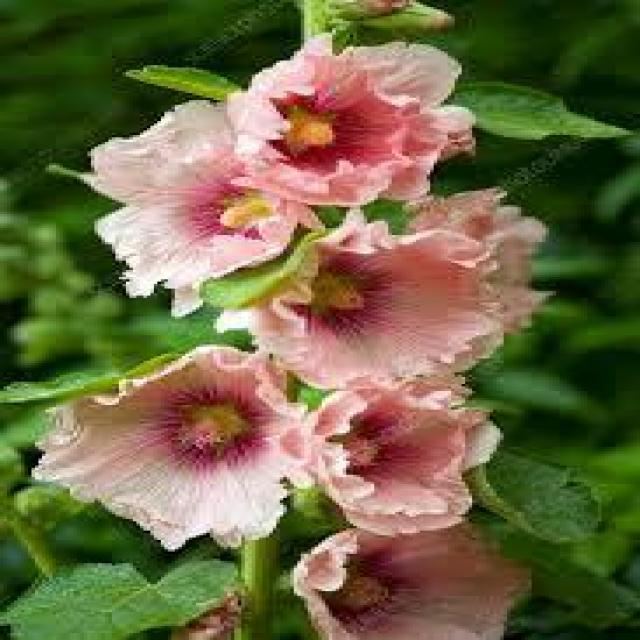organic waste: (73, 101, 336, 306), (40, 337, 296, 547), (216, 229, 524, 392), (226, 43, 484, 201), (299, 371, 498, 541)
